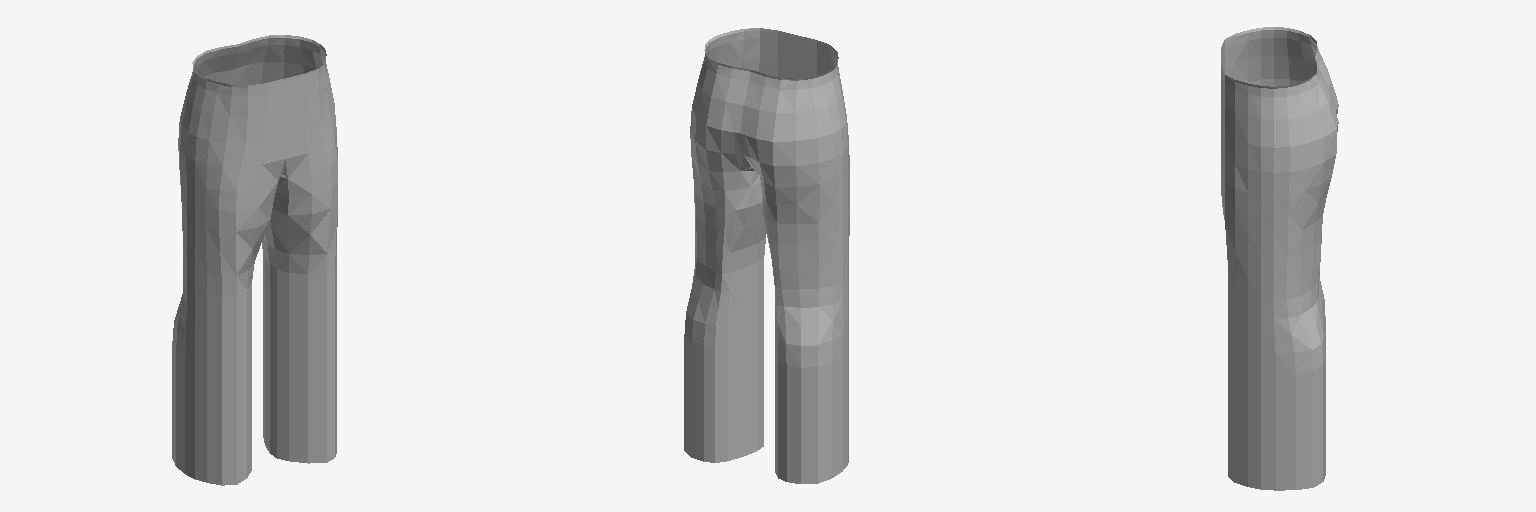
3 views of the same model, side by side, from view 1: azimuth 30°, elevation 25°; view 2: azimuth 150°, elevation 25°; view 3: azimuth 270°, elevation 25° (orthographic).
Parts seen in each view (by area): view 1: Form220_Mesh.001; view 2: Form220_Mesh.001; view 3: Form220_Mesh.001.
Part boxes in pixels (bbox=[...]): Form220_Mesh.001: bbox=[172, 35, 337, 485]; Form220_Mesh.001: bbox=[684, 28, 849, 483]; Form220_Mesh.001: bbox=[1221, 27, 1338, 490].
Size of the model in its own units: 0.1593 by 0.4177 by 0.1117.